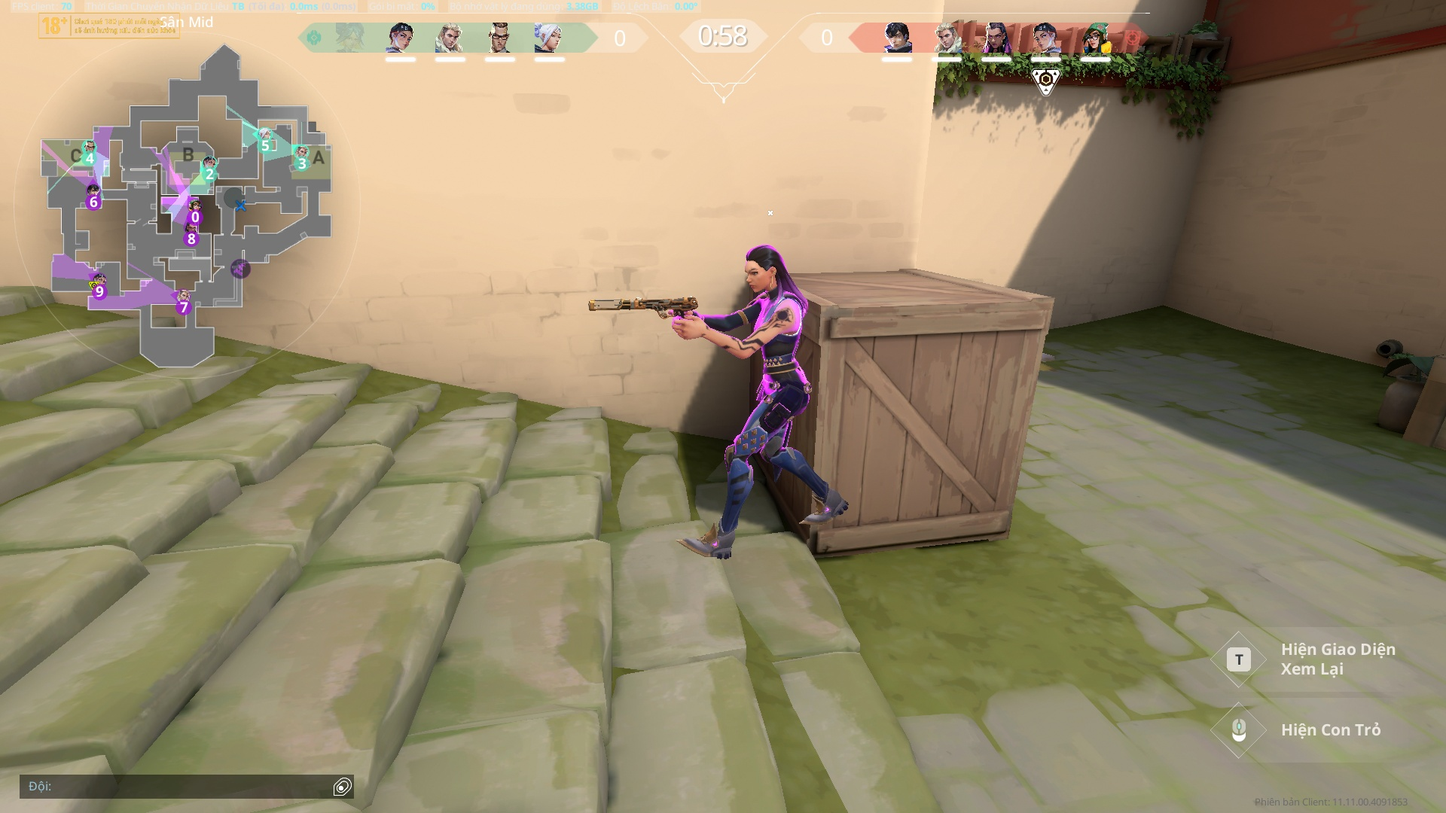body: (745, 291, 808, 379)
head: (743, 248, 780, 291)
